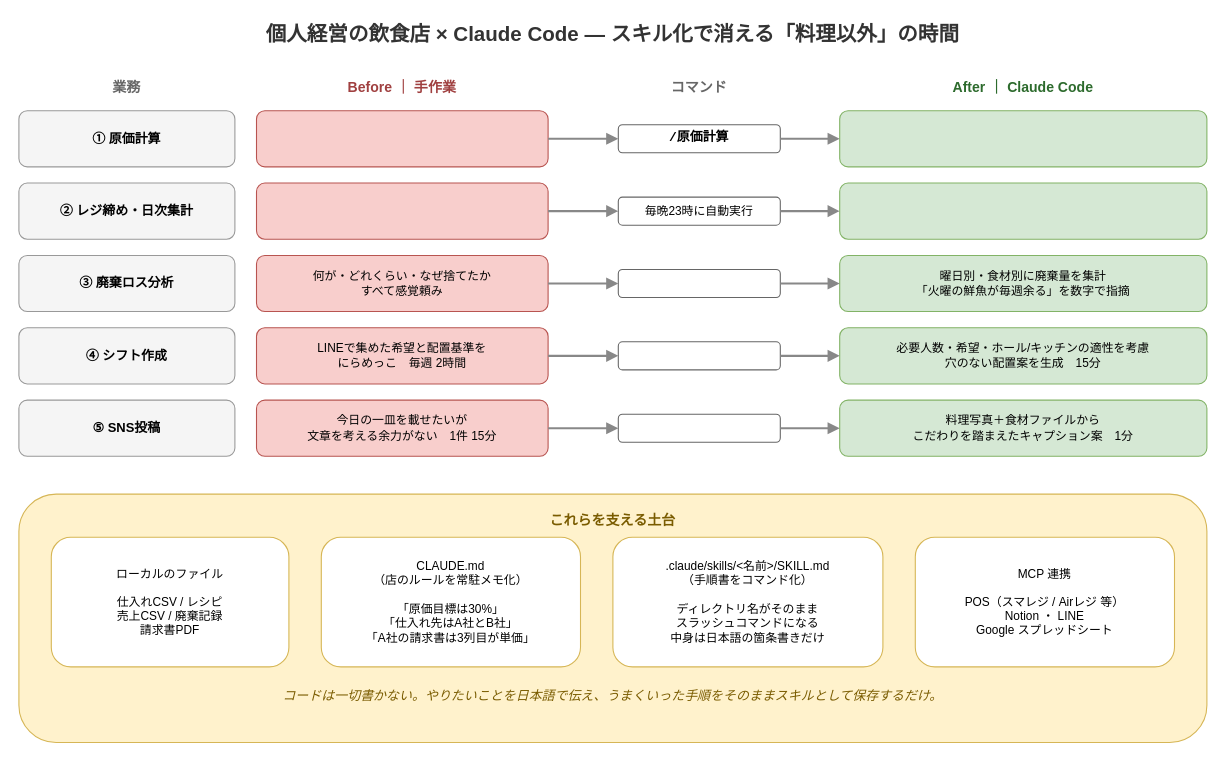
This 1226x761 diagram has some shape labels left out. The shapes that lost their labels are listed below. From the top down, each one's centre as x and y in pixels, then its label:
At point (401, 138): "請求書とメニュー表を突き合わせ 電卓で1品ずつ計算 月1回 3時間".
At point (1023, 138): "仕入れCSV × レシピから原価率を算出 30%超に印をつけて一覧出力 12分".
At point (401, 210): "現金を数え、POS売上を 手でエクセルに転記 毎晩 40分".
At point (1023, 210): "POS MCP → 集計 → Notion 記録 → 翌朝の仕込み目安 手作業ゼロ".
At point (698, 283): "/loss-check".
At point (698, 355): "/シフト調整".
At point (698, 427): "/SNS投稿".
